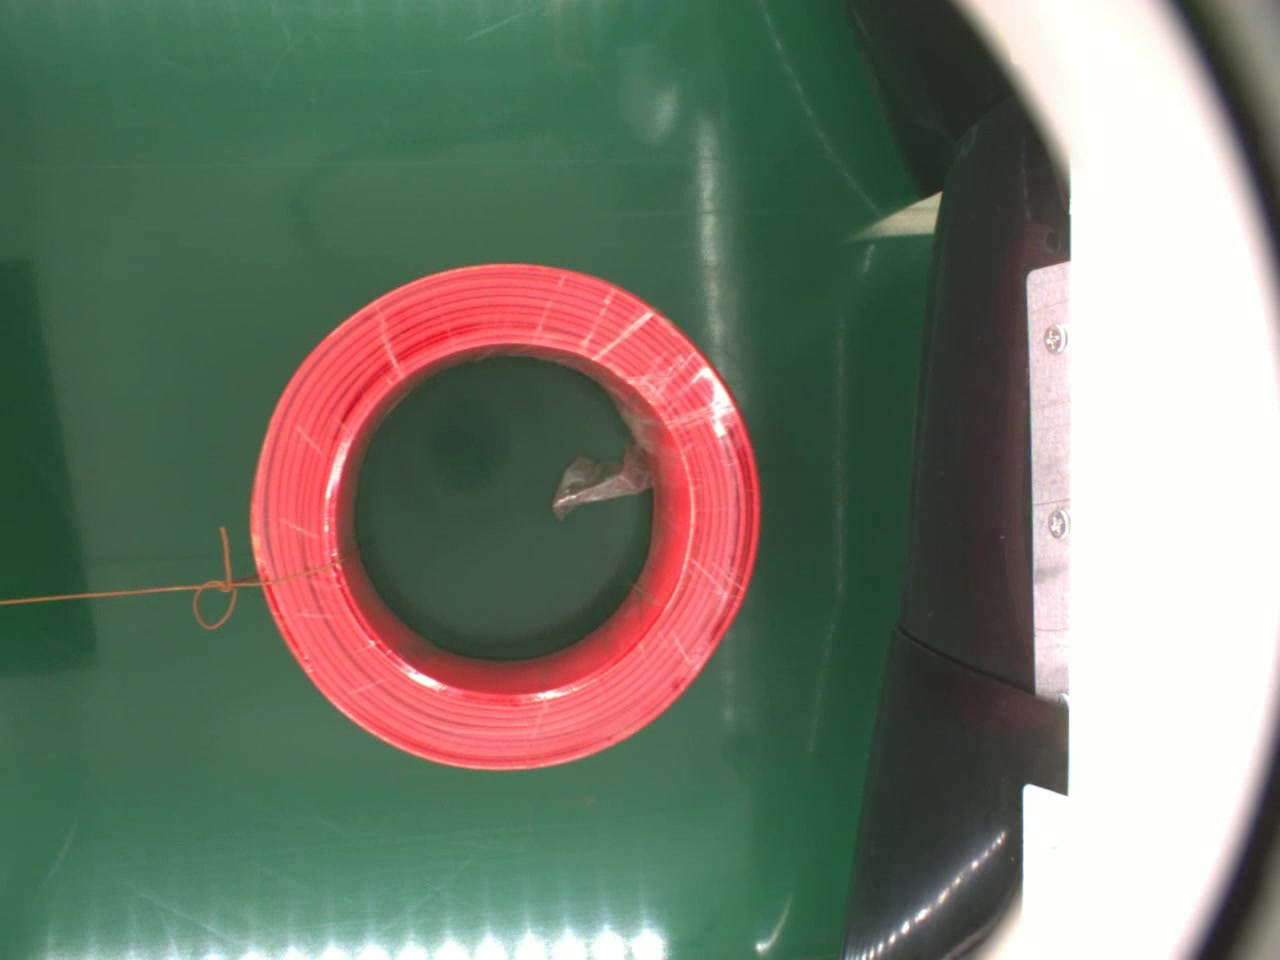red: (244, 254, 764, 776)
